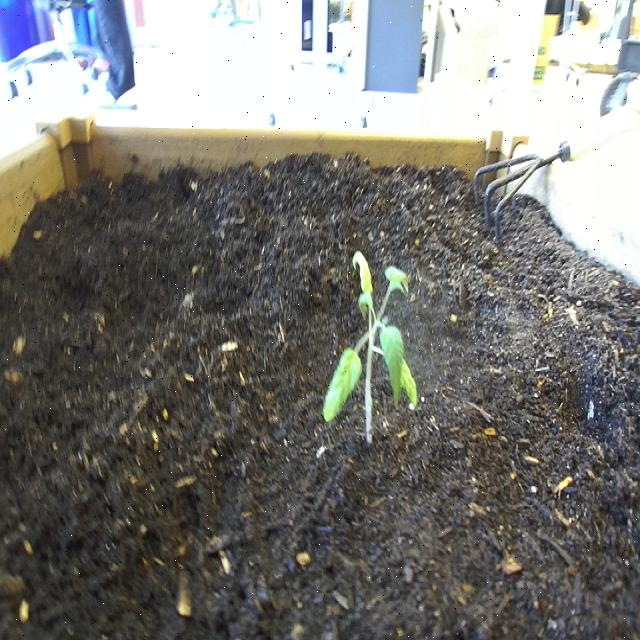Healthy: (317, 236, 426, 461)
